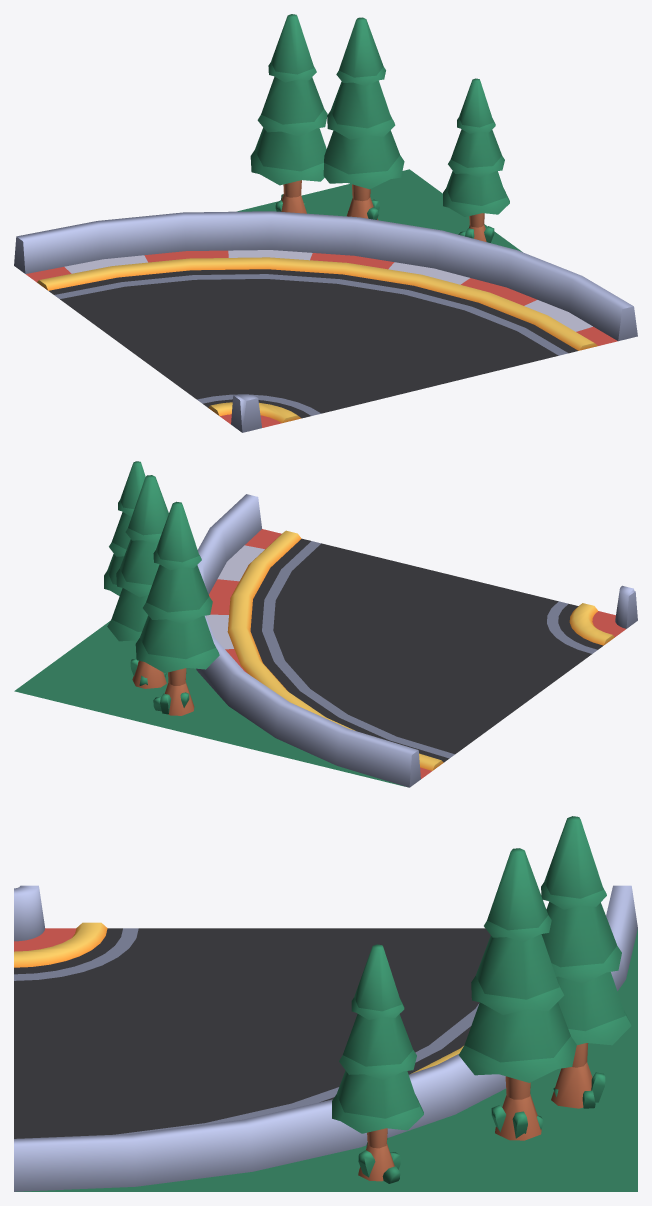
Rendered from track-corner.fbx.
The picture shows the model from 3 angles, top to bottom: view 1: azimuth 30°, elevation 25°; view 2: azimuth 150°, elevation 25°; view 3: azimuth 270°, elevation 25°; orthographic projection. The views are drawn at different scales.
Visible parts, largest first — view 1: track-corner; view 2: track-corner; view 3: track-corner.
Boxes of the visible parts, x1,y1,x2,y2 form: track-corner: (14, 14, 637, 432); track-corner: (14, 461, 637, 787); track-corner: (14, 816, 637, 1191).
Size of the model in its own units: 10.06 by 4.94 by 10.
